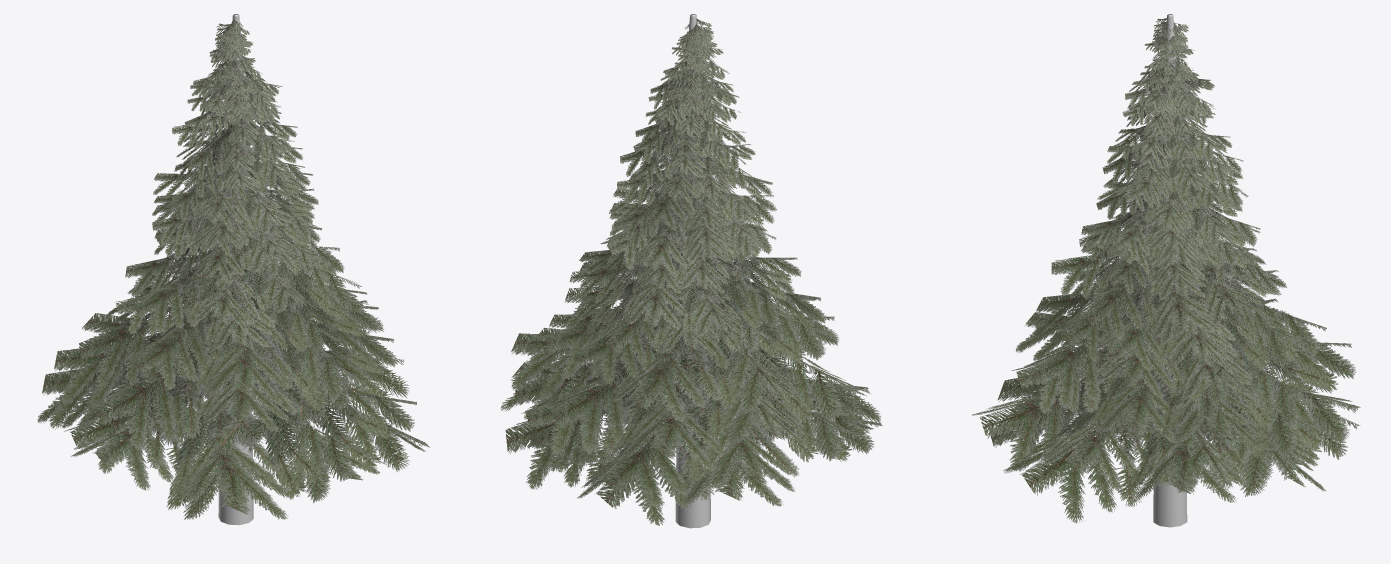
The model's file is Tree.fbx.
3 views of the same model, side by side, from view 1: azimuth 30°, elevation 25°; view 2: azimuth 150°, elevation 25°; view 3: azimuth 270°, elevation 25° (orthographic).
Visible parts, largest first — view 1: Leafes2, tronco; view 2: Leafes2, tronco; view 3: Leafes2, tronco.
Part boxes in pixels (x1=…): Leafes2: x1=37, y1=19, x2=429, y2=519; tronco: x1=218, y1=14, x2=253, y2=525; Leafes2: x1=500, y1=19, x2=882, y2=525; tronco: x1=675, y1=14, x2=710, y2=528; Leafes2: x1=972, y1=18, x2=1360, y2=523; tronco: x1=1153, y1=14, x2=1187, y2=527.
Bounding box in the file's own units: 3.89 × 5.01 × 3.93.
